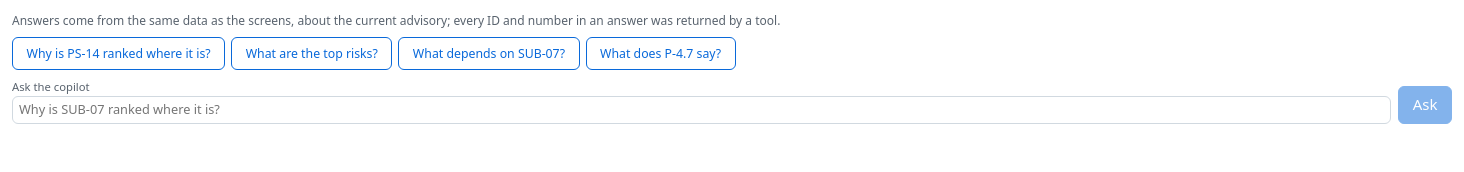
it: a failed request shows an error and keeps the question
This screenshot has width=1464, height=172.
Type "What are the top risks?" into the field labelled "Ask the copilot" at (701, 110), box [12,96,1391,124]
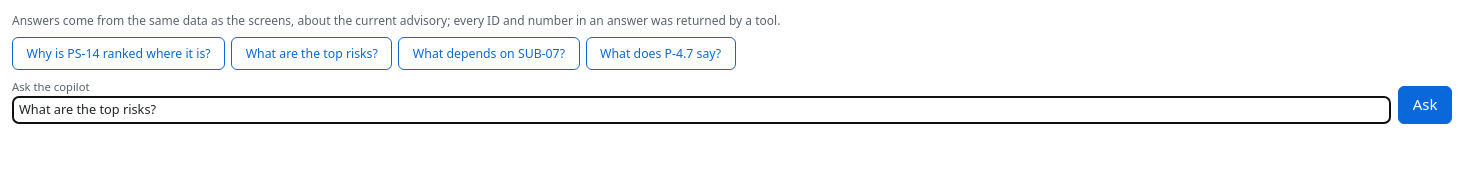
Click the button "Ask" at (1425, 105), box [1398,86,1452,124]
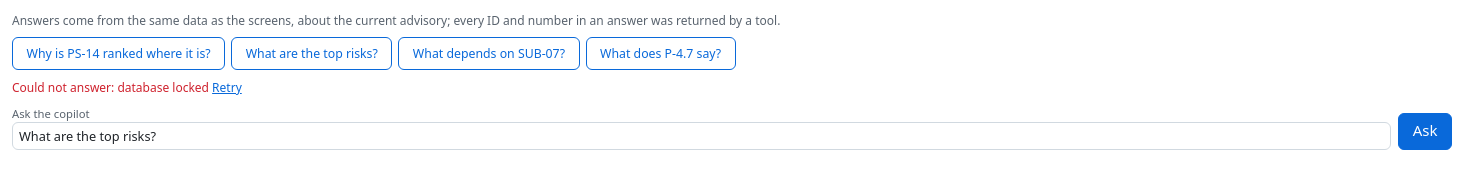
Now the message shows "database locked", box [117,79,209,96]
Now the button "Retry" is shown, box [212,79,242,97]
